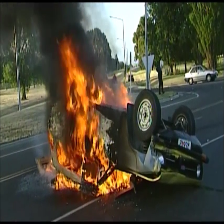fire_h: (57, 36, 114, 184), (96, 170, 132, 196), (54, 172, 80, 192), (116, 83, 131, 108)
fire_l: (45, 158, 56, 172), (48, 132, 54, 145)
